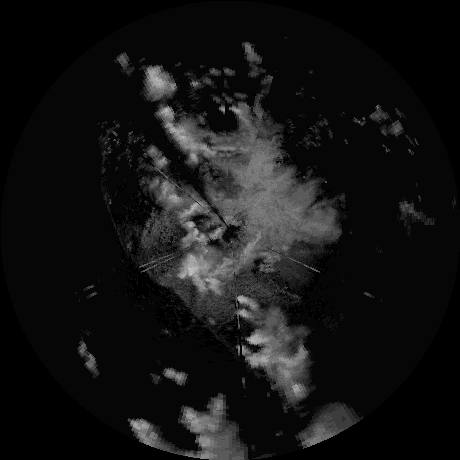frontgust: (99, 150, 132, 253)
